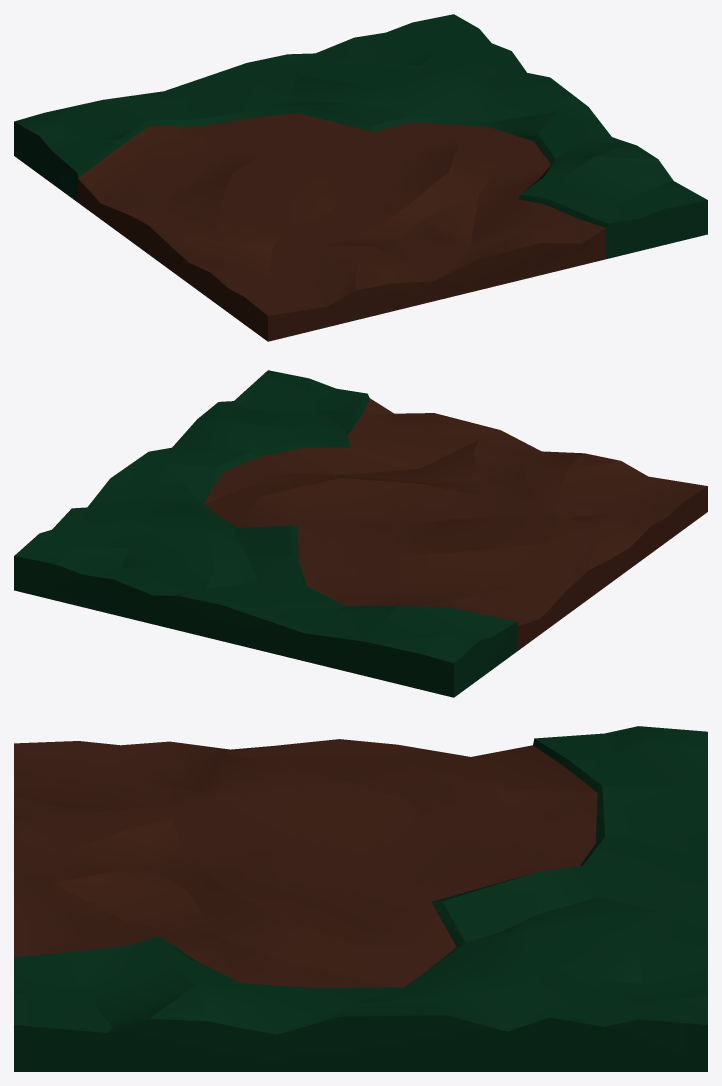
Rendered from Ground_Corner_Internal_RU.fbx.
3 views of the same model, one above another, from view 1: azimuth 30°, elevation 25°; view 2: azimuth 150°, elevation 25°; view 3: azimuth 270°, elevation 25° (orthographic). The views are drawn at different scales.
Visible parts, largest first — view 1: Ground_Corner_Internal_RU; view 2: Ground_Corner_Internal_RU; view 3: Ground_Corner_Internal_RU.
Boxes of the visible parts, bbox=[...] form: Ground_Corner_Internal_RU: bbox=[14, 14, 707, 341]; Ground_Corner_Internal_RU: bbox=[14, 370, 707, 697]; Ground_Corner_Internal_RU: bbox=[14, 726, 707, 1071].
Size of the model in its own units: 147 by 13.97 by 147.
